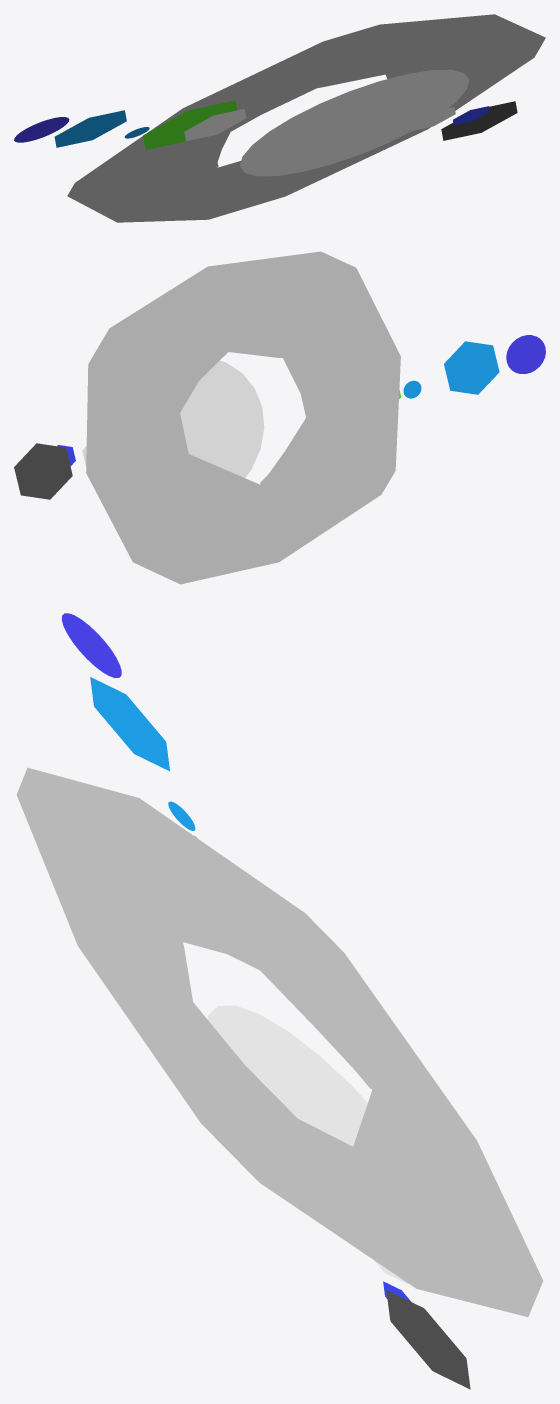
File: pref_fx_Bulbasaur_spellG_atk_000303_lv2.fbx
3 views of the same model, one above another, from view 1: azimuth 30°, elevation 25°; view 2: azimuth 150°, elevation 25°; view 3: azimuth 270°, elevation 25° (orthographic). The views are drawn at different scales.
Visible parts, largest first — view 1: sm_hong, sm_guangban; view 2: sm_hong, sm_guangban; view 3: sm_hong, sm_guangban.
Part boxes in pixels (<box>): sm_hong: <box>67,14,545,222</box>; sm_guangban: <box>14,69,517,176</box>; sm_hong: <box>86,251,400,584</box>; sm_guangban: <box>14,335,545,499</box>; sm_hong: <box>16,767,543,1316</box>; sm_guangban: <box>62,613,470,1389</box>.
Bounding box in the file's own units: 14.49 × 7.42 × 7.42.
